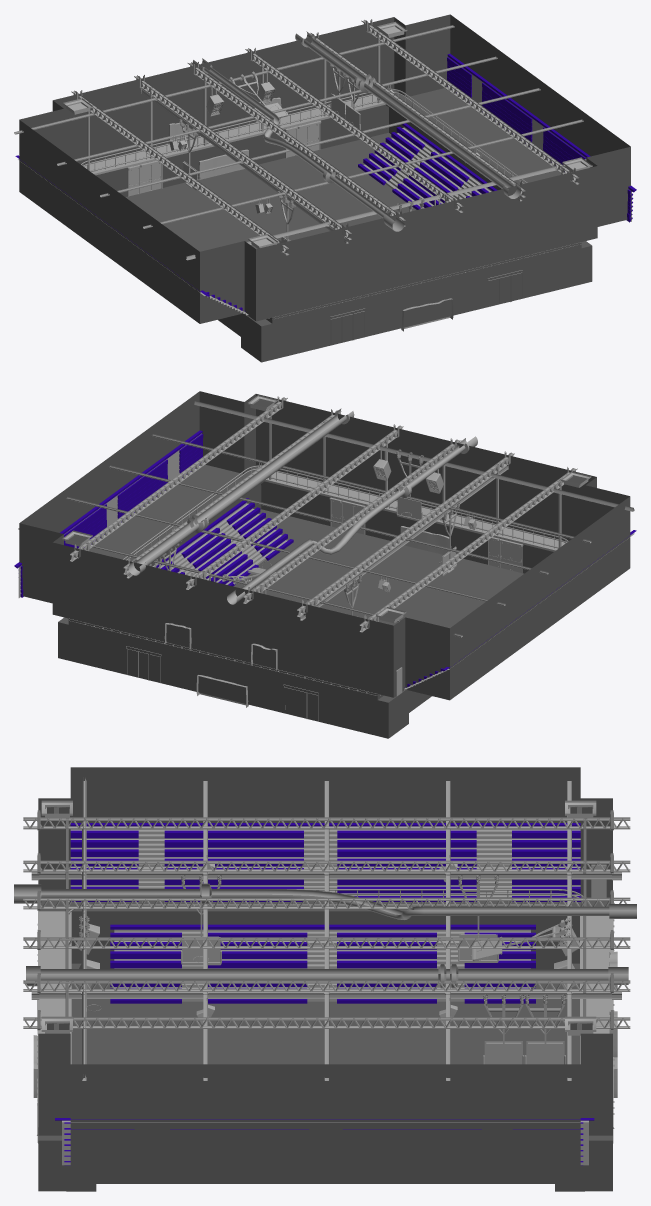
The model's file is gym_w_roof.fbx.
3 views of the same model, one above another, from view 1: azimuth 30°, elevation 25°; view 2: azimuth 150°, elevation 25°; view 3: azimuth 270°, elevation 25° (orthographic). The views are drawn at different scales.
Parts seen in each view (by area): view 1: pCube1, pCube176, polySurface148, pCube185, pCylinder1, pCube65, pCylinder3, pCube56, pCube64, pCube17, pCube206, pCube207 (+1 smaller); view 2: pCube1, pCube176, polySurface148, pCube185, pCylinder1, pCube66, pCylinder3, pCube56, pCube239, pCube206, pCube63, pPipe14 (+2 smaller); view 3: pCube1, polySurface148, pCube176, pCylinder1, pCylinder3, pCube185, pCube206, pCube204, pCube66, pCube65, pCube56, pPipe9 (+7 smaller).
Boxes of the visible parts, box(x1,y1,x2,y2) form: pCube1: box(19, 14, 630, 362); pCube176: box(71, 20, 579, 255); polySurface148: box(15, 53, 636, 316); pCube185: box(14, 25, 586, 260); pCylinder1: box(295, 31, 521, 198); pCube65: box(82, 95, 385, 175); pCylinder3: box(192, 58, 404, 231); pCube56: box(81, 88, 527, 184); pCube64: box(87, 31, 380, 170); pCube17: box(127, 160, 162, 196); pCube206: box(140, 88, 348, 243); pCube207: box(285, 120, 321, 158); pCube1: box(19, 391, 630, 738); pCube176: box(70, 397, 577, 632); polySurface148: box(14, 430, 636, 690); pCube185: box(18, 401, 634, 637); pCylinder1: box(128, 408, 354, 575); pCube66: box(264, 472, 567, 551); pCylinder3: box(227, 436, 477, 604); pCube56: box(122, 465, 568, 560); pCube239: box(488, 537, 523, 573); pCube206: box(300, 465, 508, 620); pCube63: box(269, 408, 561, 548); pPipe14: box(396, 449, 423, 521); pCube1: box(38, 767, 612, 1191); polySurface148: box(55, 823, 594, 1165); pCube176: box(23, 817, 630, 1028); pCylinder1: box(26, 964, 628, 988); pCylinder3: box(14, 883, 636, 919); pCube185: box(82, 777, 571, 1080); pCube206: box(31, 872, 621, 880); pCube204: box(31, 992, 621, 999); pCube66: box(38, 911, 71, 1126); pCube65: box(580, 916, 613, 1127); pCube56: box(68, 889, 583, 914); pPipe9: box(525, 994, 565, 1064).
Size of the model in its own units: 237 by 61.29 by 204.
